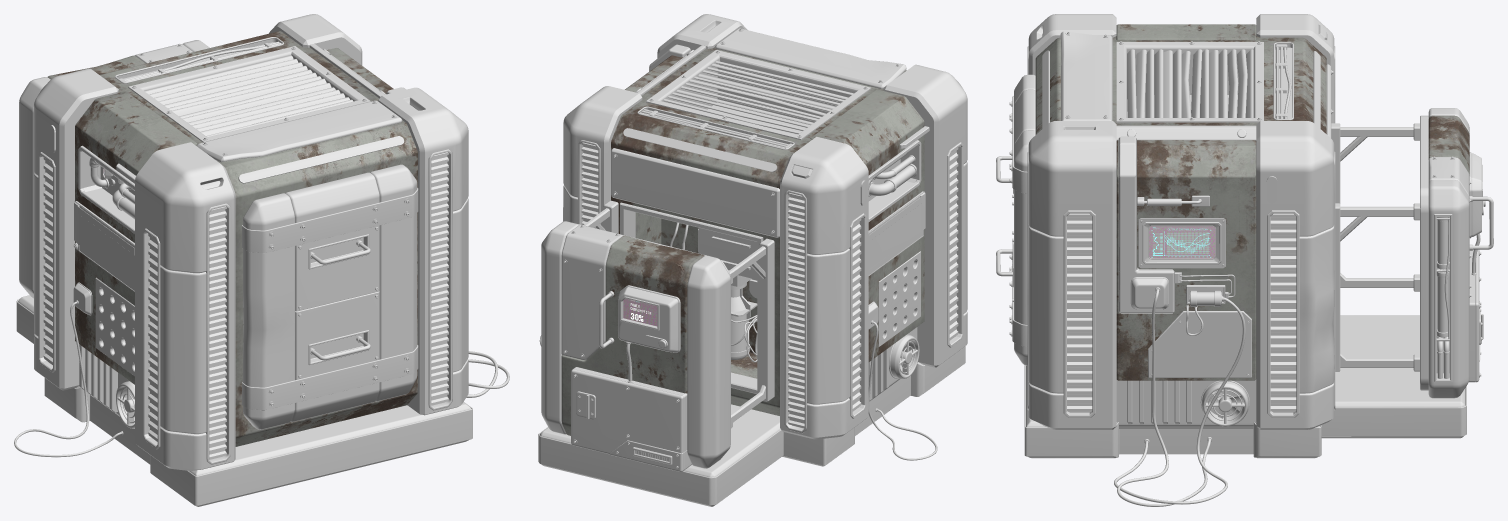
File: PowerGeneratorB.fbx
The picture shows the model from 3 angles, left to right: view 1: azimuth 30°, elevation 25°; view 2: azimuth 150°, elevation 25°; view 3: azimuth 270°, elevation 25°; orthographic projection. The views are drawn at different scales.
Visible parts, largest first — view 1: PowerGeneratorB; view 2: PowerGeneratorB; view 3: PowerGeneratorB.
Part boxes in pixels (x1=…): PowerGeneratorB: x1=14, y1=14, x2=509, y2=506; PowerGeneratorB: x1=538, y1=14, x2=967, y2=506; PowerGeneratorB: x1=996, y1=14, x2=1493, y2=506.
Size of the model in its own units: 1.93 by 1.36 by 1.91.
